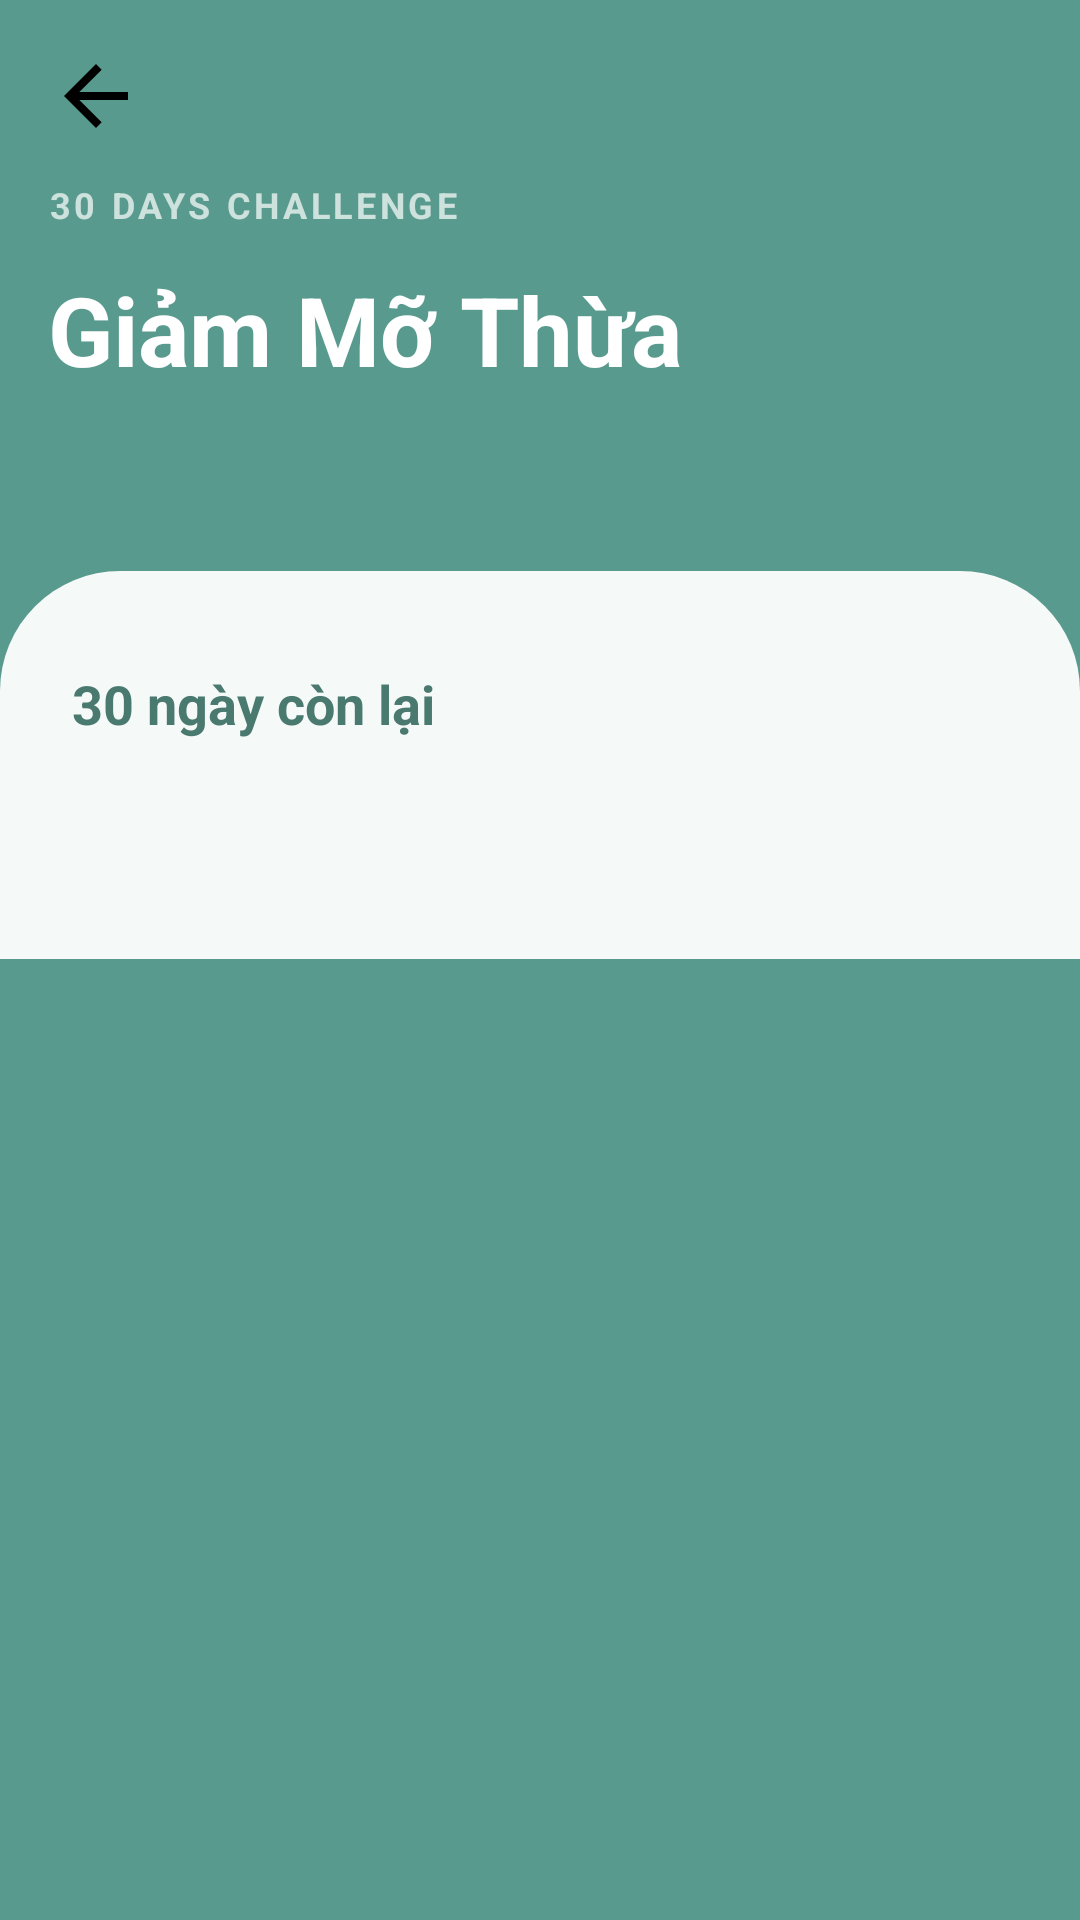

Icon click points for this 1080px x 1920px phone screenshot, format (x,y):
arrow back breakfast: (96,96)
